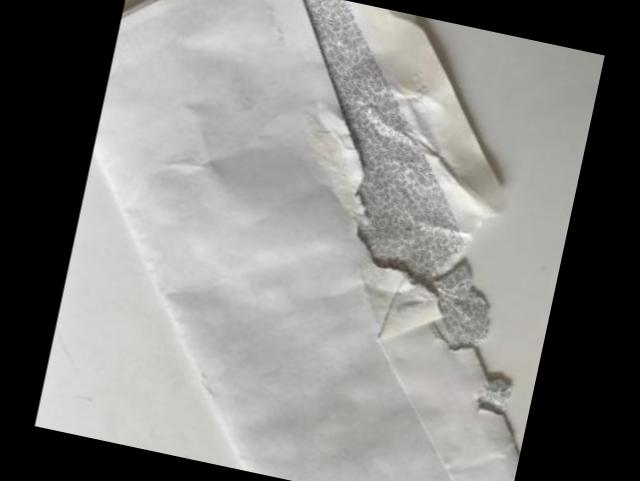cardboard paper: (93, 0, 519, 481)
